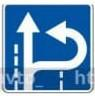road_sign: (2, 2, 95, 93)
